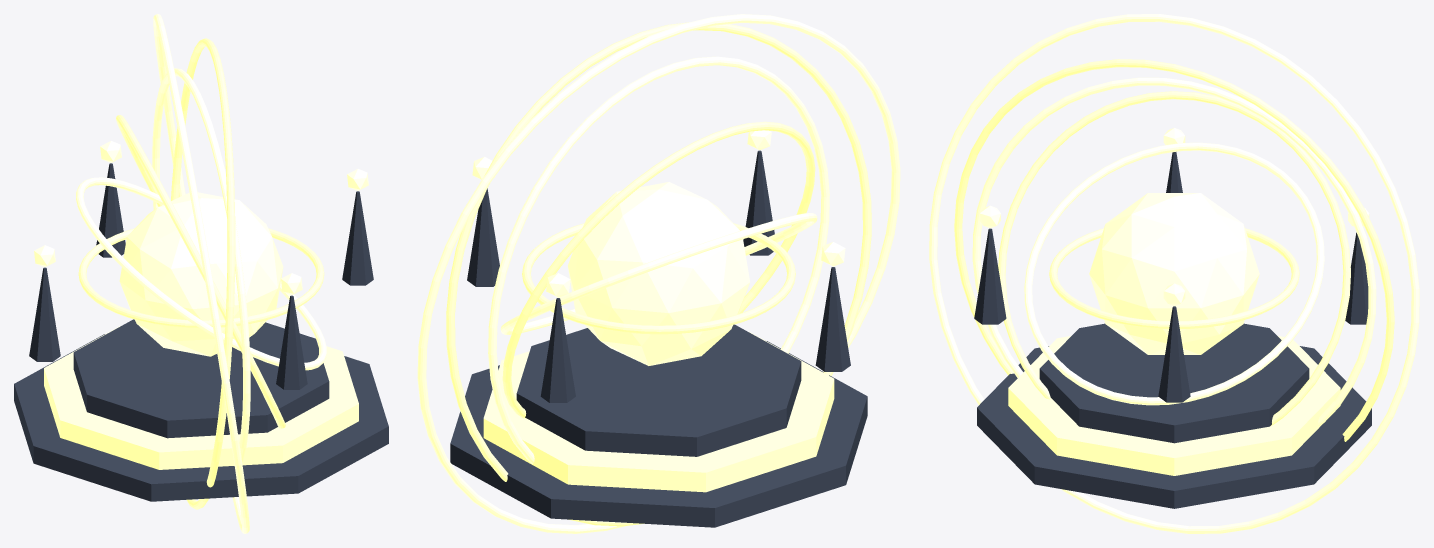
Rendered from gpu-blender-v34.glb.
The picture shows the model from 3 angles, left to right: view 1: azimuth 30°, elevation 25°; view 2: azimuth 150°, elevation 25°; view 3: azimuth 270°, elevation 25°; orthographic projection. The views are drawn at different scales.
Parts seen in each view (by area): view 1: Cylinder.002, Cylinder, SovereignCore_promptmaster-studio, Cylinder.001, Torus.005, Torus.004, Torus.003, Torus.001, Torus, Torus.002, Cone, Cone.003 (+2 smaller); view 2: Cylinder.002, SovereignCore_promptmaster-studio, Cylinder, Cylinder.001, Torus.005, Torus.004, Torus.003, Torus.002, Torus, Torus.001, Cone.002, Cone.001 (+2 smaller); view 3: SovereignCore_promptmaster-studio, Cylinder.002, Cylinder, Cylinder.001, Torus.005, Torus.004, Torus.001, Torus.002, Torus.003, Torus, Cone, Cone.003 (+1 smaller).
Part boxes in pixels (<box>): Cylinder.002: <box>73,319,329,438</box>; Cylinder: <box>14,334,388,501</box>; SovereignCore_promptmaster-studio: <box>119,192,283,356</box>; Cylinder.001: <box>44,326,358,469</box>; Torus.005: <box>153,14,249,533</box>; Torus.004: <box>171,38,235,509</box>; Torus.003: <box>152,68,250,461</box>; Torus.001: <box>76,177,326,370</box>; Torus: <box>78,228,324,328</box>; Torus.002: <box>116,115,285,428</box>; Cone: <box>342,191,373,285</box>; Cone.003: <box>276,295,307,389</box>; Cylinder.002: <box>516,324,801,456</box>; SovereignCore_promptmaster-studio: <box>568,182,749,365</box>; Cylinder: <box>450,341,867,527</box>; Cylinder.001: <box>483,332,834,492</box>; Torus.005: <box>417,14,900,533</box>; Torus.004: <box>446,22,871,526</box>; Torus.003: <box>488,56,829,463</box>; Torus.002: <box>502,121,815,418</box>; Torus: <box>522,223,795,334</box>; Torus.001: <box>500,213,817,334</box>; Cone.002: <box>815,267,850,371</box>; Cone.001: <box>540,298,575,402</box>; SovereignCore_promptmaster-studio: <box>1089,193,1259,354</box>; Cylinder.002: <box>1039,323,1309,443</box>; Cylinder: <box>977,346,1371,508</box>; Cylinder.001: <box>1008,336,1340,475</box>; Torus.005: <box>929,14,1419,533</box>; Torus.004: <box>954,59,1394,441</box>; Torus.001: <box>1024,142,1324,405</box>; Torus.002: <box>998,91,1350,425</box>; Torus.003: <box>972,77,1376,426</box>; Torus: <box>1049,228,1299,328</box>; Cone: <box>1158,306,1190,402</box>; Cone.003: <box>974,228,1006,324</box>.
Bounding box in the file's own units: 4.41 × 5.93 × 5.46.
